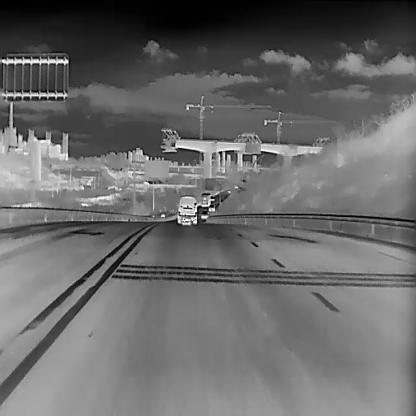car: (177, 196, 196, 225), (200, 210, 208, 220), (208, 204, 215, 211)
truck: (200, 192, 210, 206)
